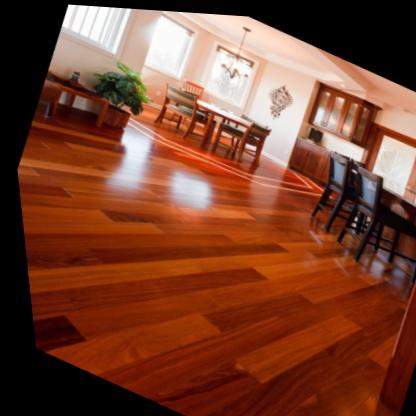Wooden floor: (14, 109, 403, 416)
